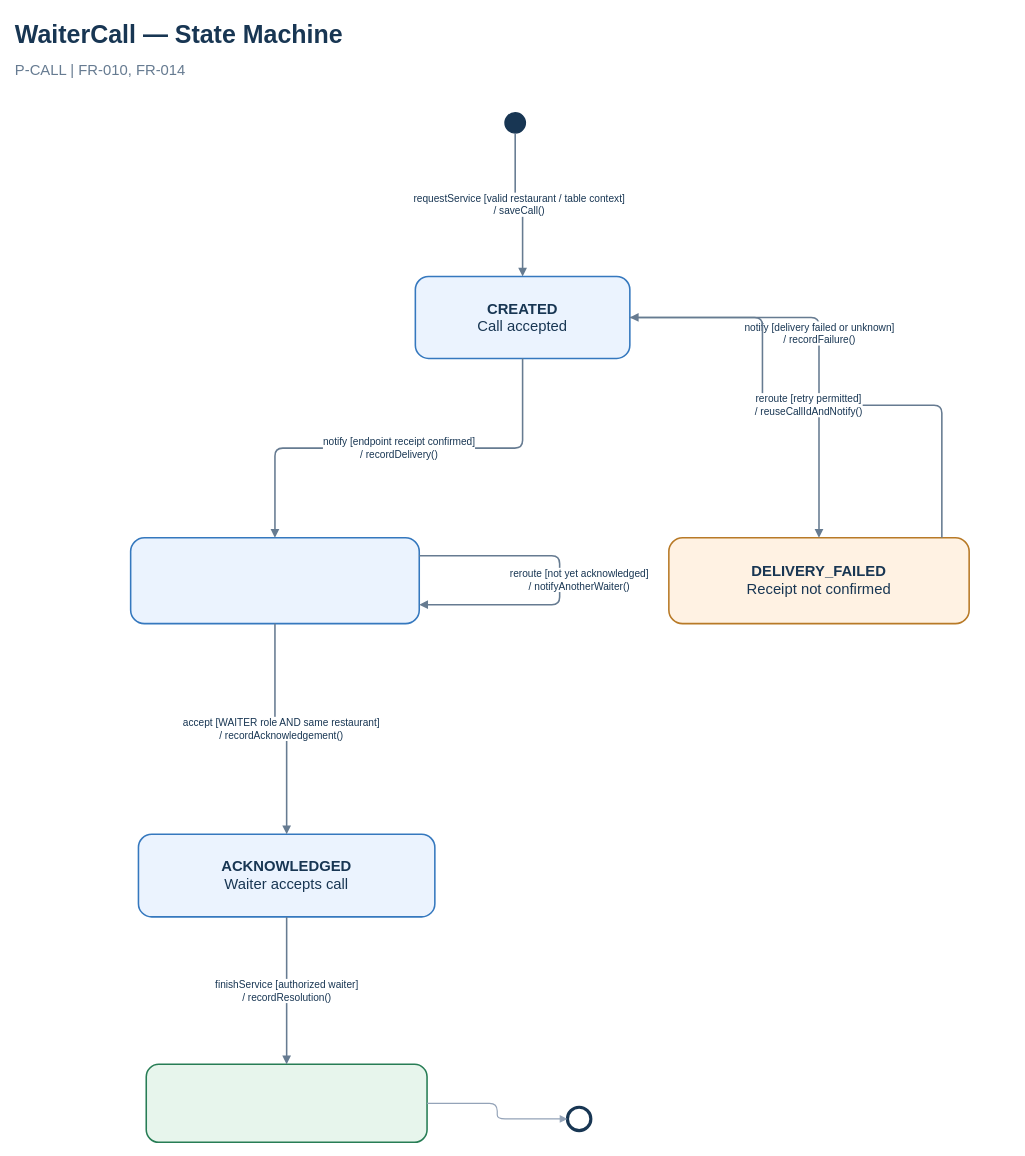
The diagram is 1025 pixels wide and 1156 high, and some of its shapes have lost their labels. Each missing label, with the centre of its shape:
"NOTIFIED Endpoint received alert" goes at [274,580].
"RESOLVED Request completed" goes at [286,1103].
